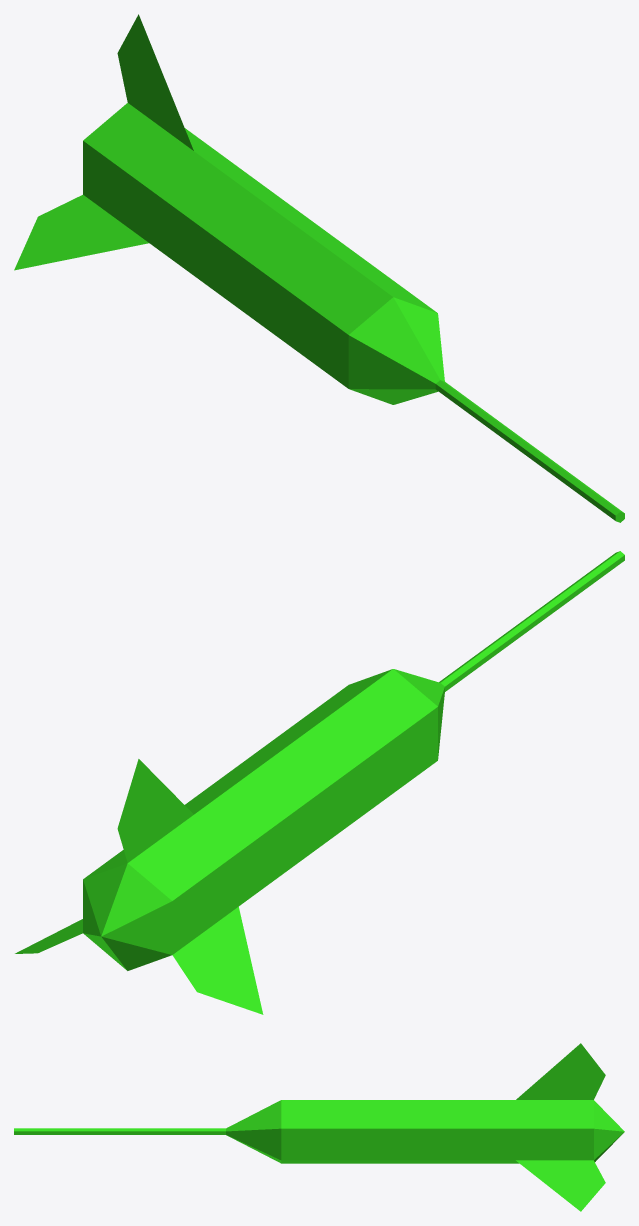
File: injectionBullet.fbx
3 renders of one model, top to bottom at view 1: azimuth 30°, elevation 25°; view 2: azimuth 150°, elevation 25°; view 3: azimuth 270°, elevation 25°, orthographic. The views are drawn at different scales.
Parts seen in each view (by area): view 1: Injection; view 2: Injection; view 3: Injection.
Part boxes in pixels (x1,y1,x2,y2): Injection: [14, 14, 624, 522]; Injection: [15, 551, 624, 1014]; Injection: [14, 1043, 624, 1211].
Bounding box in the file's own units: 3.53 × 3.06 × 12.75.
Materials: 1 (1 with a texture image).
